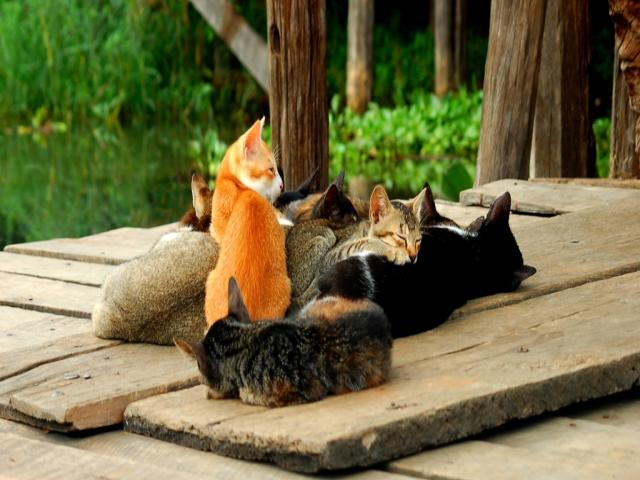Cat: (92, 114, 536, 406)
